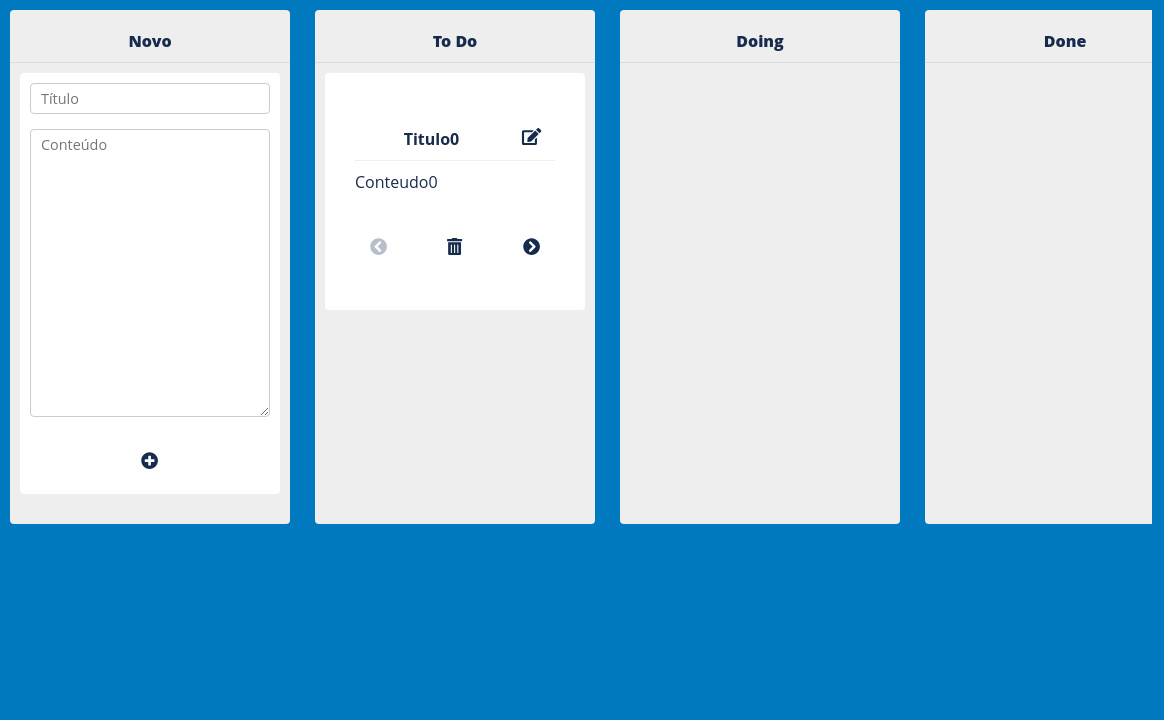
Scenario: Render Board › Move card to the right and to the left
The image size is (1164, 720).
Expected: the element titled "To Do" shows "Titulo0", [404,128,459,150]
Expected: the element titled "Doing" does not show "Titulo0", [620,10,900,524]
Step 1. Click the element titled "Mover p/ direita" → (531, 247), box [518,233,545,260]
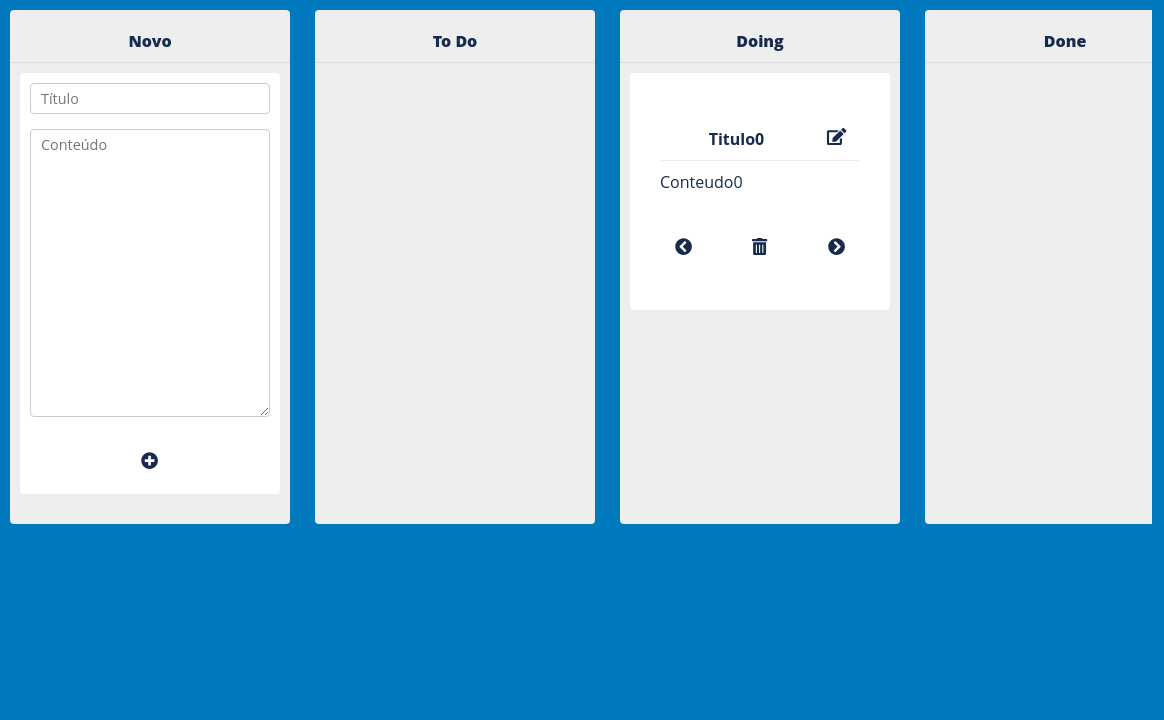
Expected: the element titled "To Do" does not show "Titulo0", [315,10,595,524]
Result: the element titled "Doing" shows "Titulo0" at [709,128,764,150]
Step 2. Click the element titled "Mover p/ direita" → (836, 247), box [823,233,850,260]
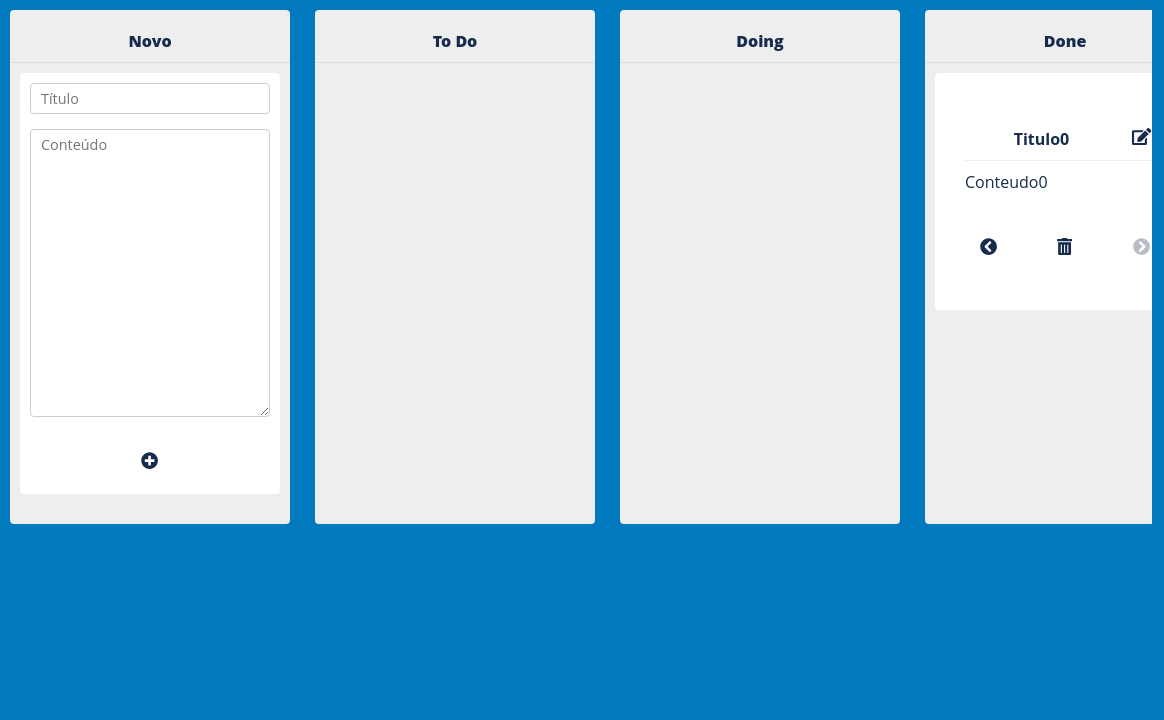
Expected: the element titled "Doing" does not show "Titulo0", [620,10,900,524]
Result: the element titled "Done" shows "Titulo0" at [1014,128,1069,150]
Step 3. Click the element titled "Mover p/ esquerda" → (989, 247), box [975,233,1002,260]
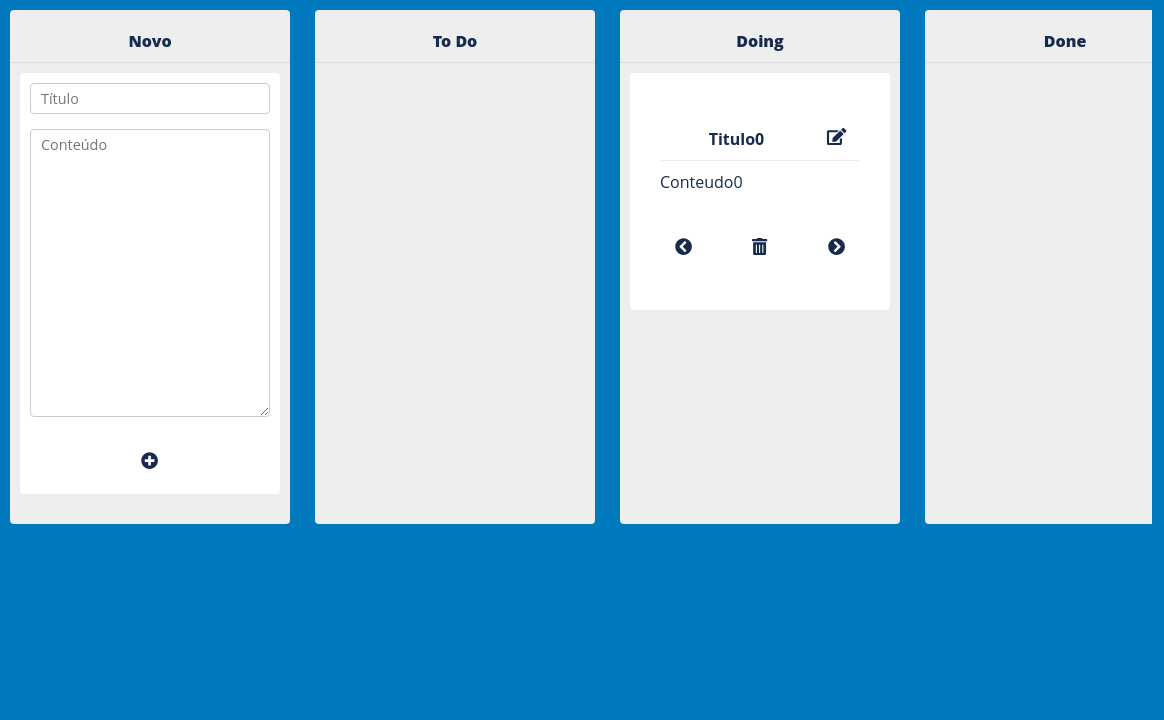
Result: the element titled "Doing" shows "Titulo0" at [709,128,764,150]
Step 4. Click the element titled "Mover p/ esquerda" → (684, 247), box [670,233,697,260]
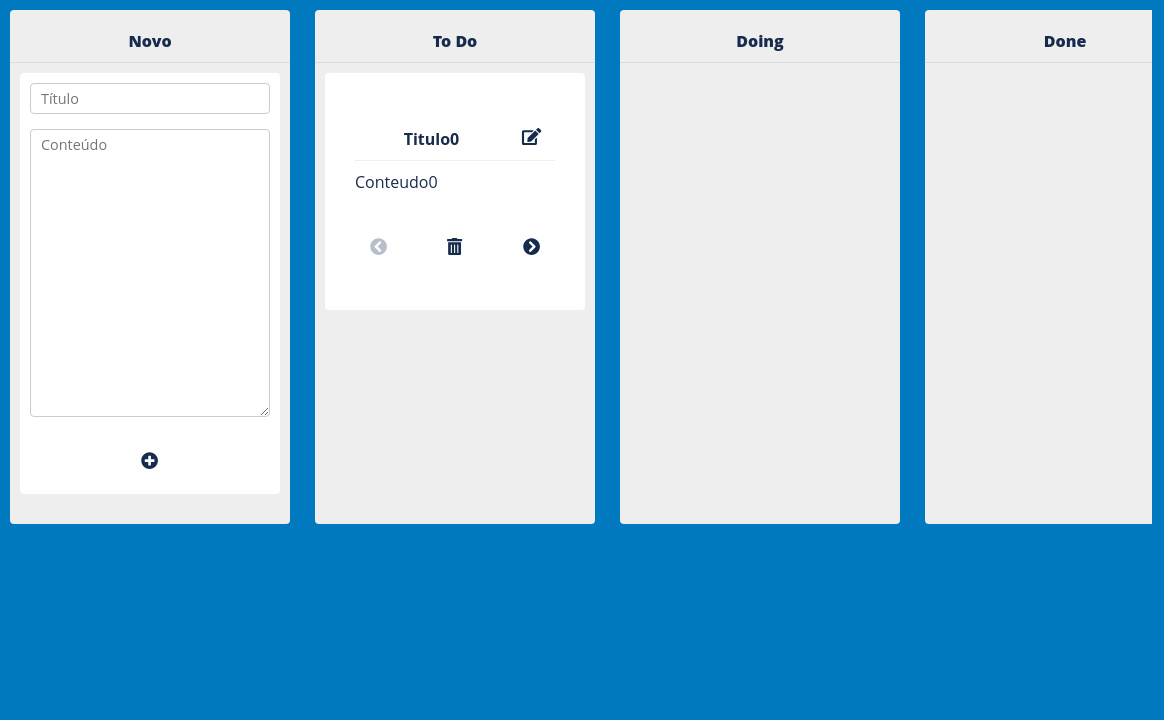
Expected: the element titled "Doing" does not show "Titulo0", [620,10,900,524]
Result: the element titled "To Do" shows "Titulo0" at [404,128,459,150]
